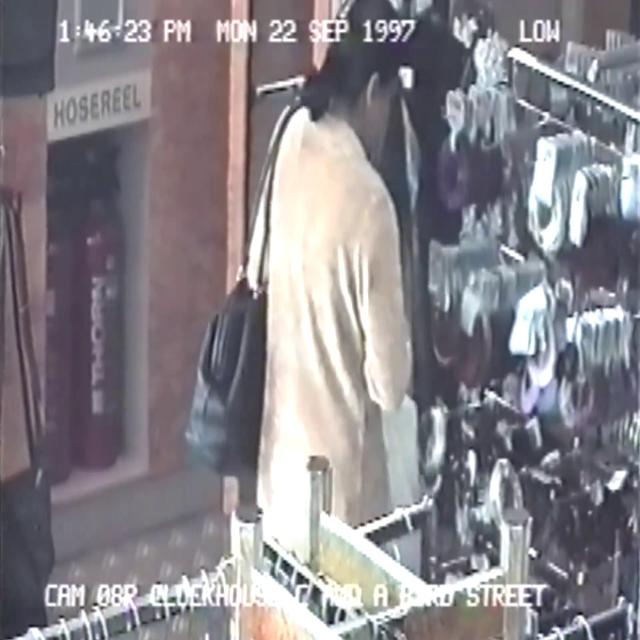shoplifting: (181, 6, 455, 640)
